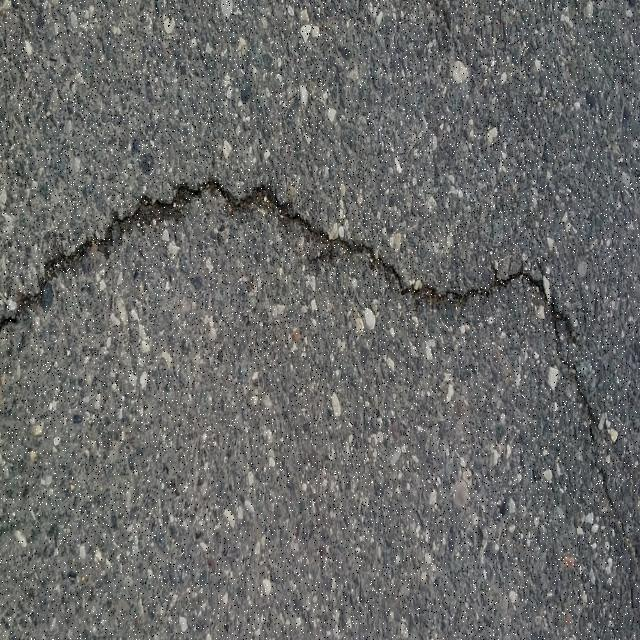Crack: (0, 180, 640, 638)
